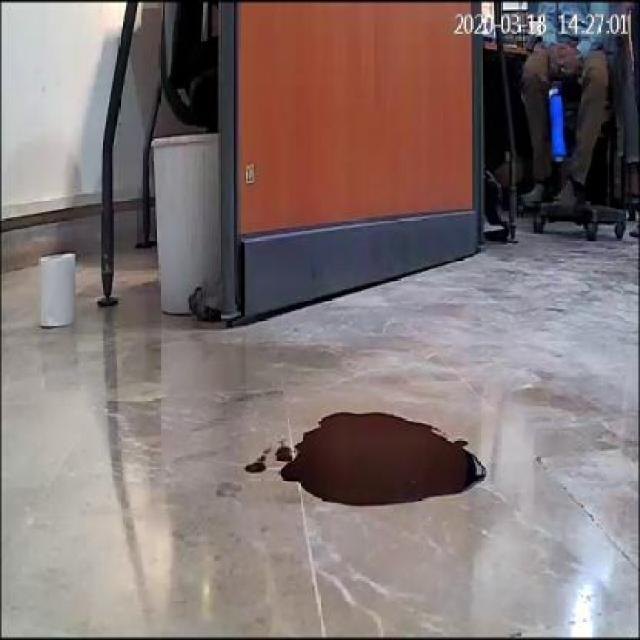spill: (284, 408, 486, 508)
